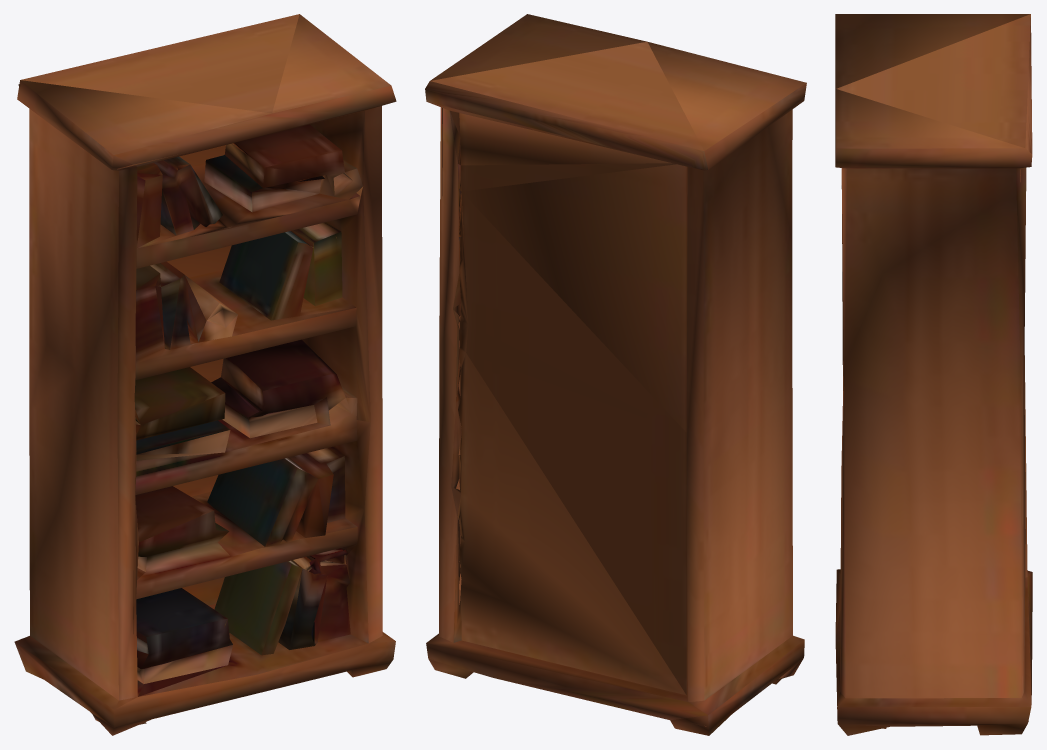
File: lg-bookshelf.glb
3 renders of one model, left to right at view 1: azimuth 30°, elevation 25°; view 2: azimuth 150°, elevation 25°; view 3: azimuth 270°, elevation 25°, orthographic.
Visible parts, largest first — view 1: geometry_0; view 2: geometry_0; view 3: geometry_0.
Part boxes in pixels (x1,y1,x2,y2): geometry_0: (14,14,396,735); geometry_0: (425,14,806,735); geometry_0: (835,14,1032,735).
Size of the model in its own units: 0.5028 by 1 by 0.3037.
Materials: 1 (1 with a texture image).
